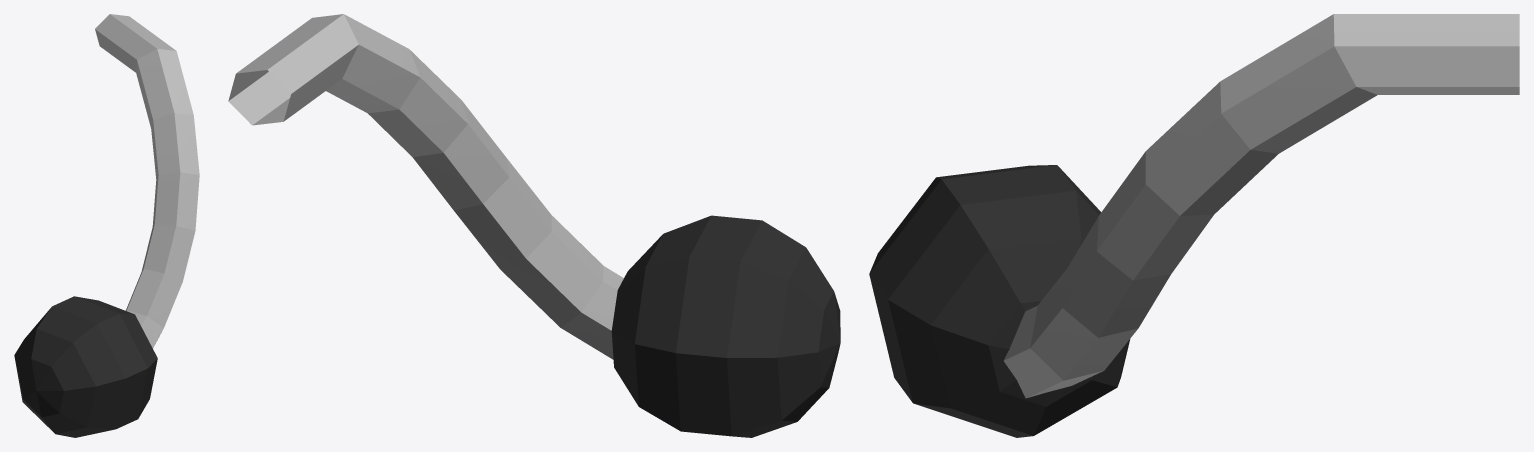
The model's file is SniperRifle1_03_4.fbx.
3 renders of one model, left to right at view 1: azimuth 30°, elevation 25°; view 2: azimuth 150°, elevation 25°; view 3: azimuth 270°, elevation 25°, orthographic. The views are drawn at different scales.
Parts seen in each view (by area): view 1: SniperRifle1_03_4; view 2: SniperRifle1_03_4; view 3: SniperRifle1_03_4.
Part boxes in pixels (x1,y1,x2,y2): SniperRifle1_03_4: (14,14,199,437); SniperRifle1_03_4: (228,14,840,437); SniperRifle1_03_4: (869,14,1519,437).
Size of the model in its own units: 0.05 by 0.0566 by 0.0598.
